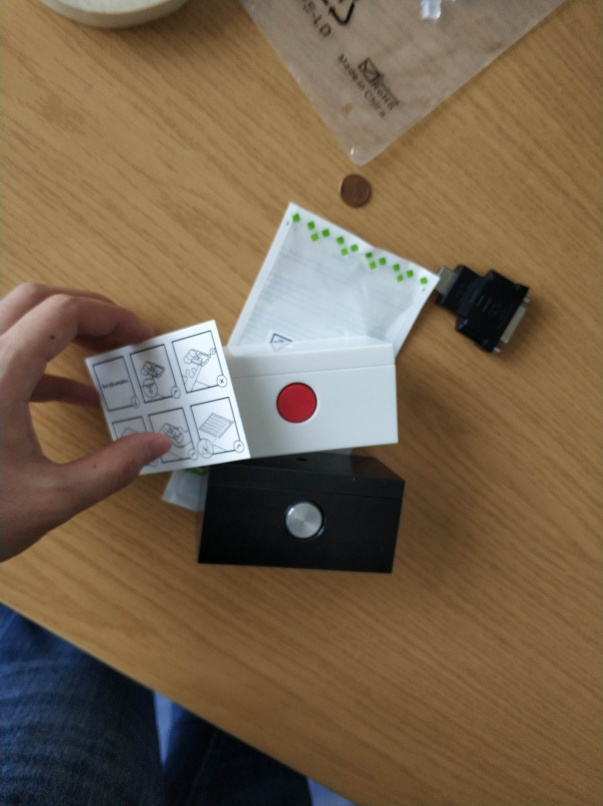black+black+silver: (196, 446, 409, 577)
white+white+red: (215, 333, 403, 461)
